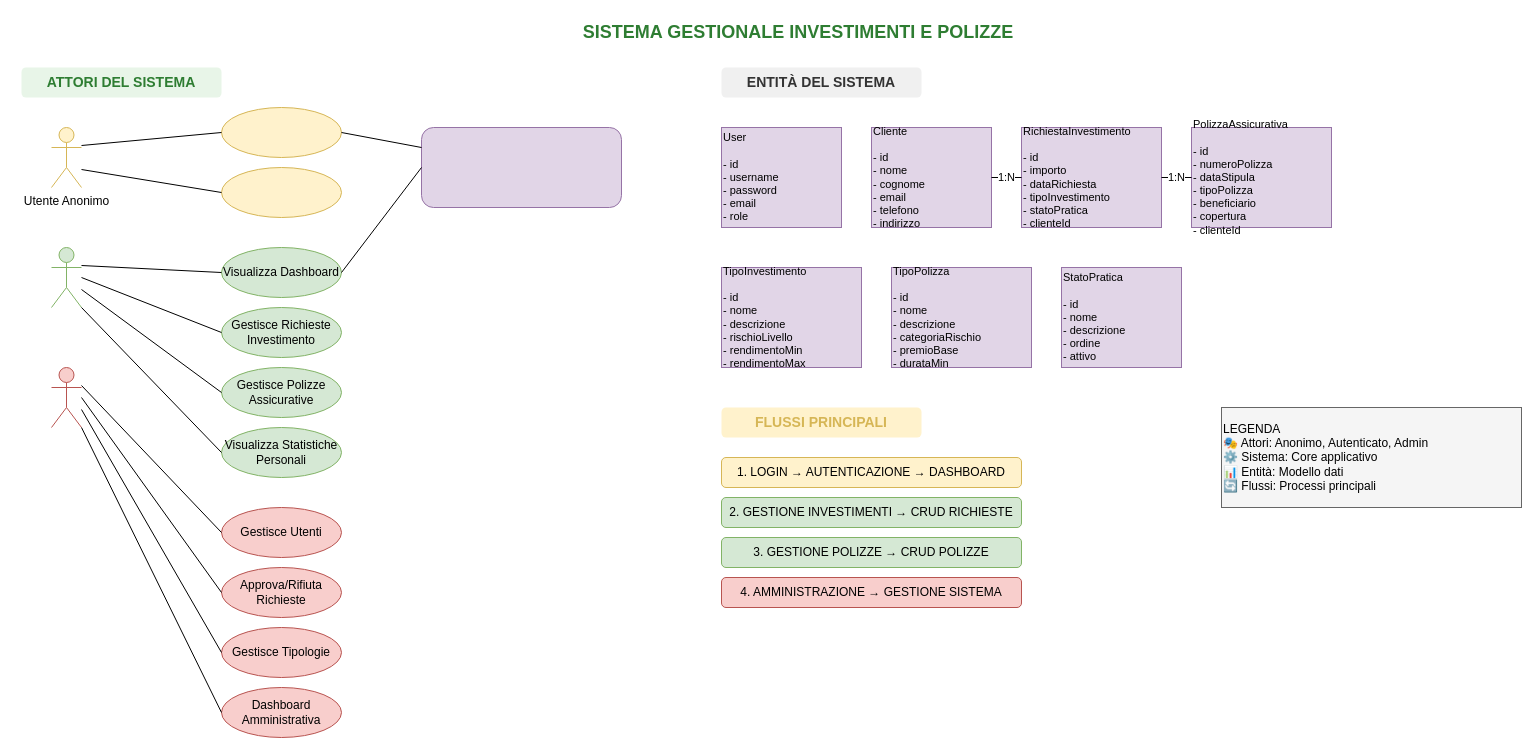
This 1539x755 diagram has some shape labels left out. The shapes that lost their labels are listed below. From the top down, each one's centre as x and y in pixels, then its label:
the point at 281,132: Visualizza Login
the point at 521,167: SISTEMA GESTIONALE
the point at 281,192: Richiede Autenticazione
the point at 66,277: Utente Autenticato
the point at 66,397: Amministratore
